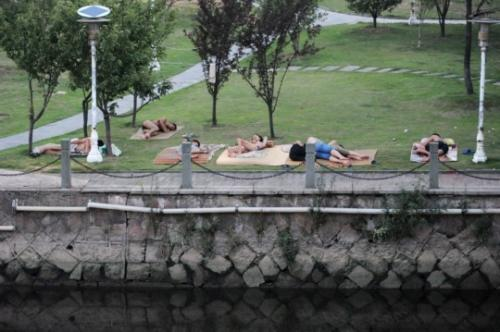down: (28, 128, 107, 166), (415, 126, 460, 175), (220, 122, 270, 165), (134, 112, 182, 144), (178, 132, 211, 175), (334, 137, 375, 171), (305, 135, 336, 172), (283, 131, 305, 167)
